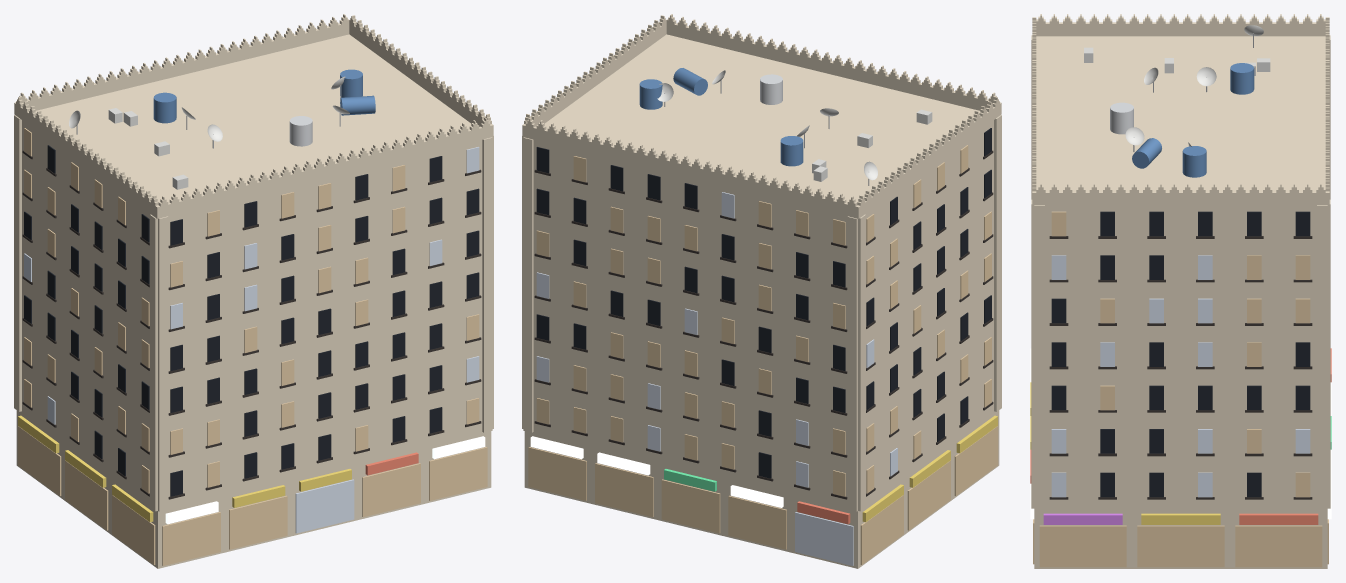
File: SM_RiyadhBlock_01.fbx
3 renders of one model, left to right at view 1: azimuth 30°, elevation 25°; view 2: azimuth 150°, elevation 25°; view 3: azimuth 270°, elevation 25°, orthographic. The views are drawn at different scales.
Parts seen in each view (by area): view 1: SM_RiyadhBlock_01; view 2: SM_RiyadhBlock_01; view 3: SM_RiyadhBlock_01.
Part boxes in pixels (x1=…): SM_RiyadhBlock_01: x1=14, y1=14, x2=493, y2=568; SM_RiyadhBlock_01: x1=522, y1=14, x2=1001, y2=568; SM_RiyadhBlock_01: x1=1030, y1=14, x2=1331, y2=568.
Size of the model in its own units: 3062 by 3217 by 2262.
